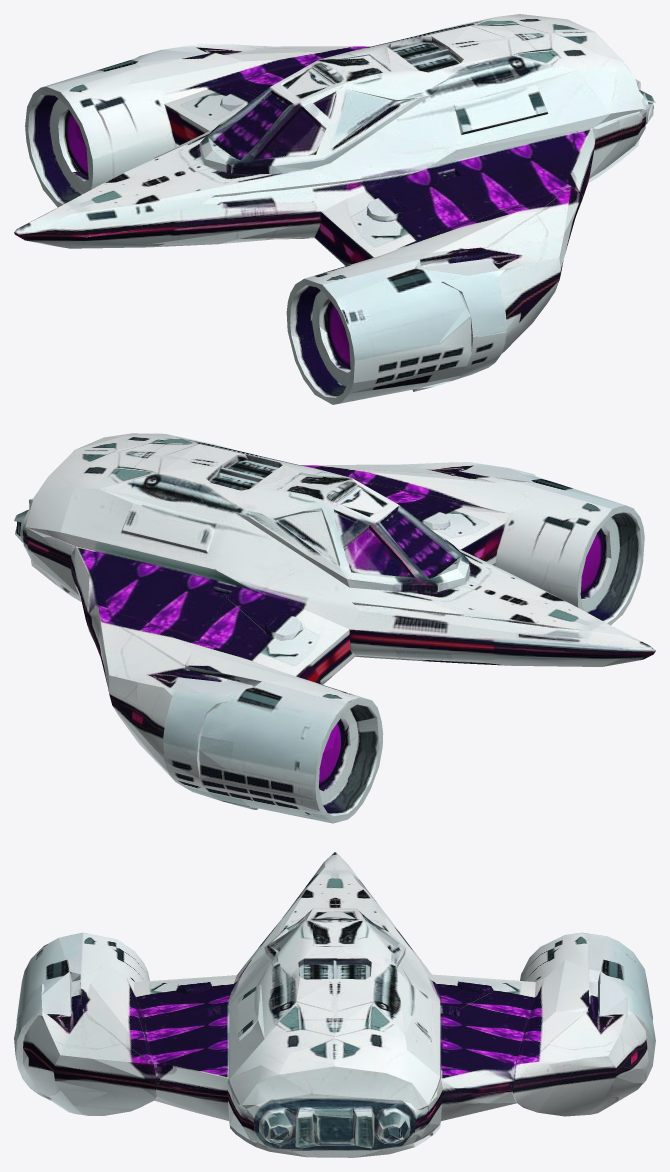
File: nation-f-scout.glb
3 renders of one model, top to bottom at view 1: azimuth 30°, elevation 25°; view 2: azimuth 150°, elevation 25°; view 3: azimuth 270°, elevation 25°, orthographic. The views are drawn at different scales.
Size of the model in its own units: 1.9 by 0.5992 by 1.82.
Materials: 1 (1 with a texture image).
